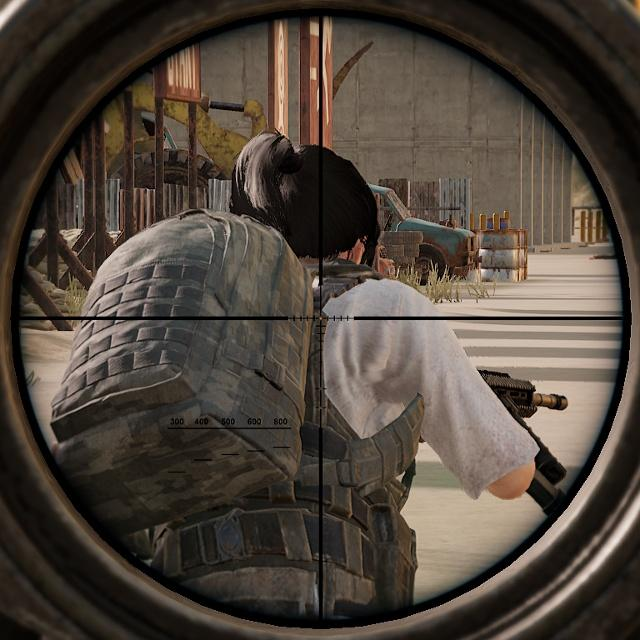head: (234, 132, 406, 292)
people: (63, 131, 513, 614)
